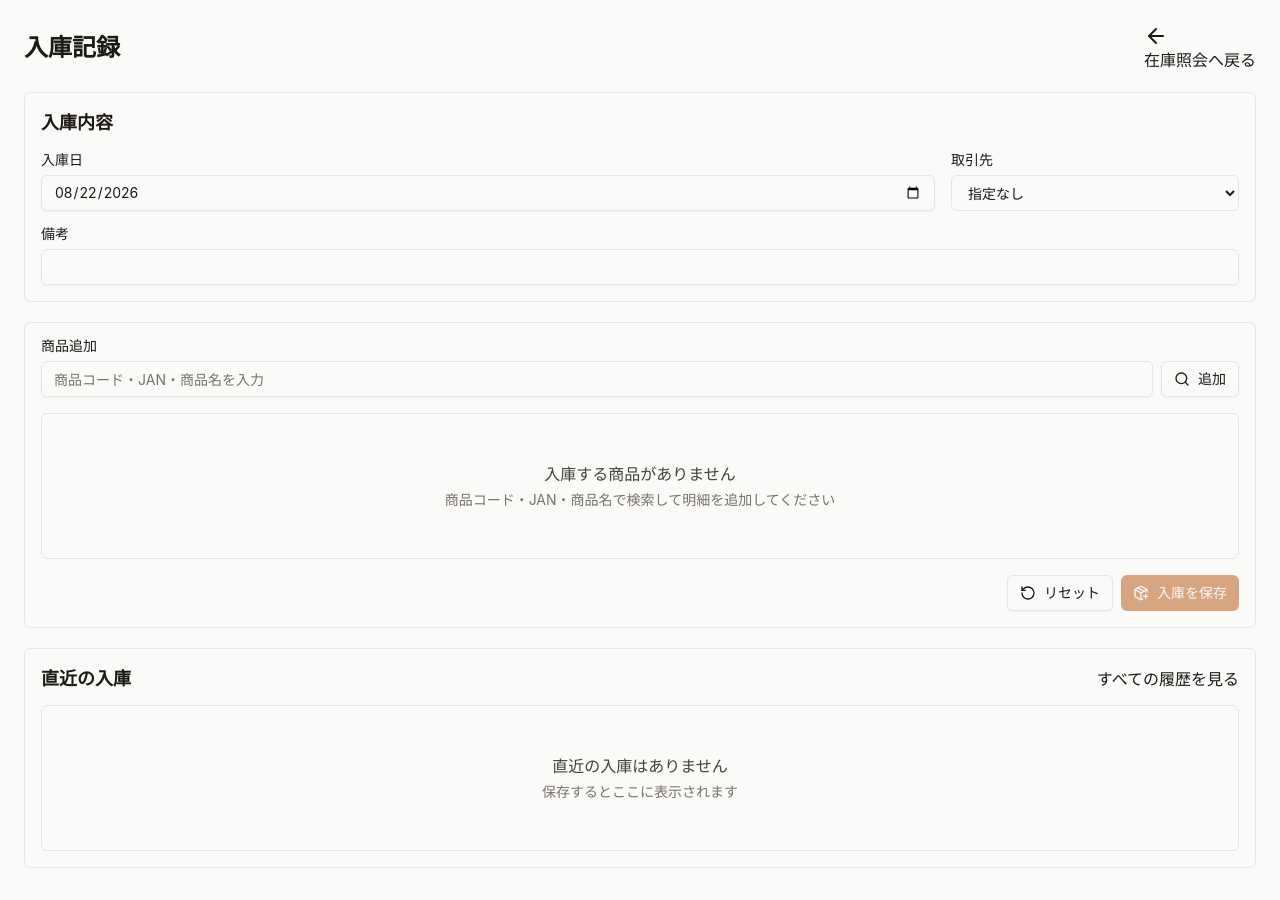
Test: ReceivingPage (UI-02 / REQ-201) › requires selection when product search returns multiple candidates
Type "P" into the dropdown named "入庫商品検索". click: (597, 379)
box: x1=41 y1=361 x2=1153 y2=397
Then press Enter
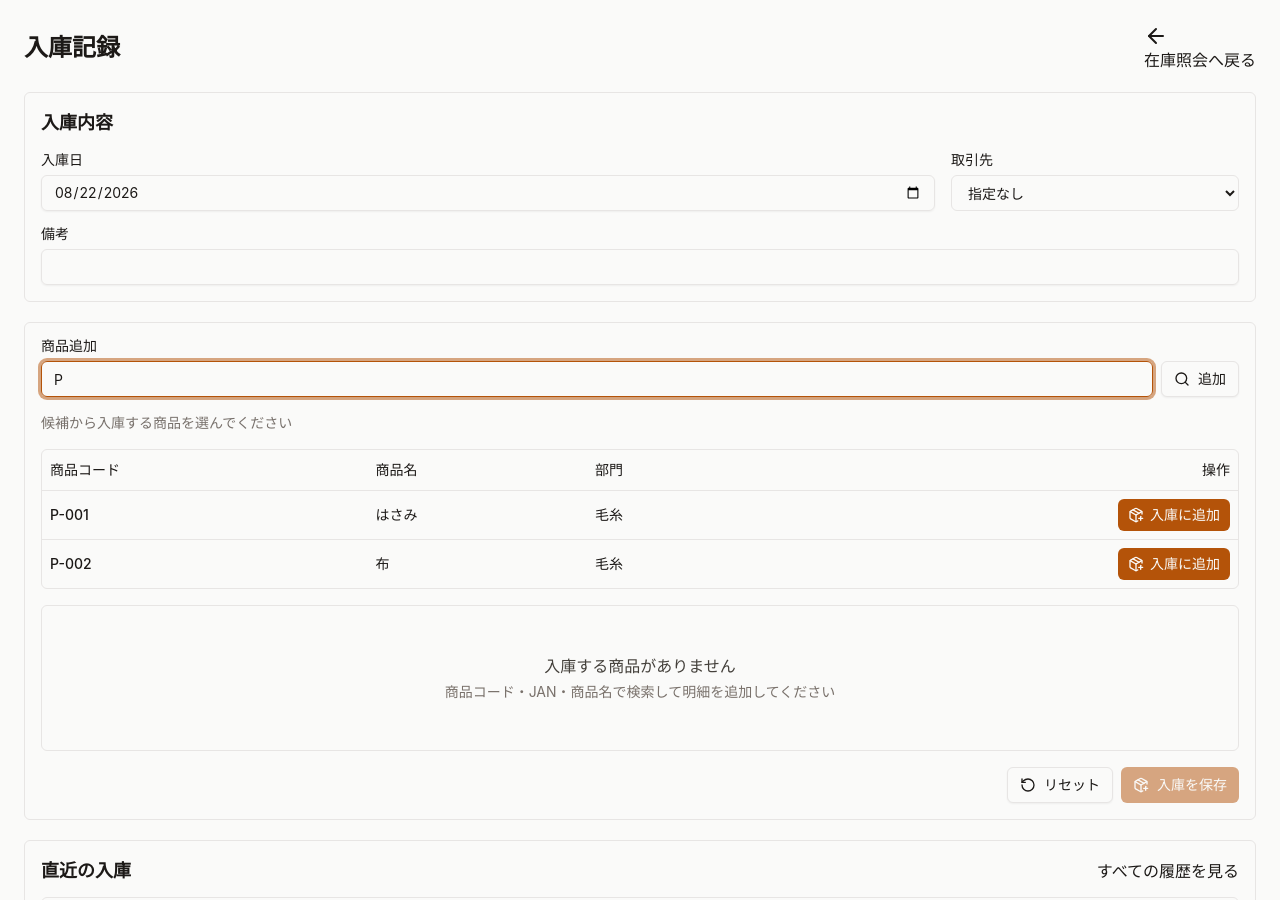
Result: the text "候補から入庫する商品を選んでください" is shown at x1=41 y1=413 x2=292 y2=433
Click the button "入庫に追加" in the row of "P-002". click: (1174, 564)
box: x1=1118 y1=548 x2=1230 y2=580
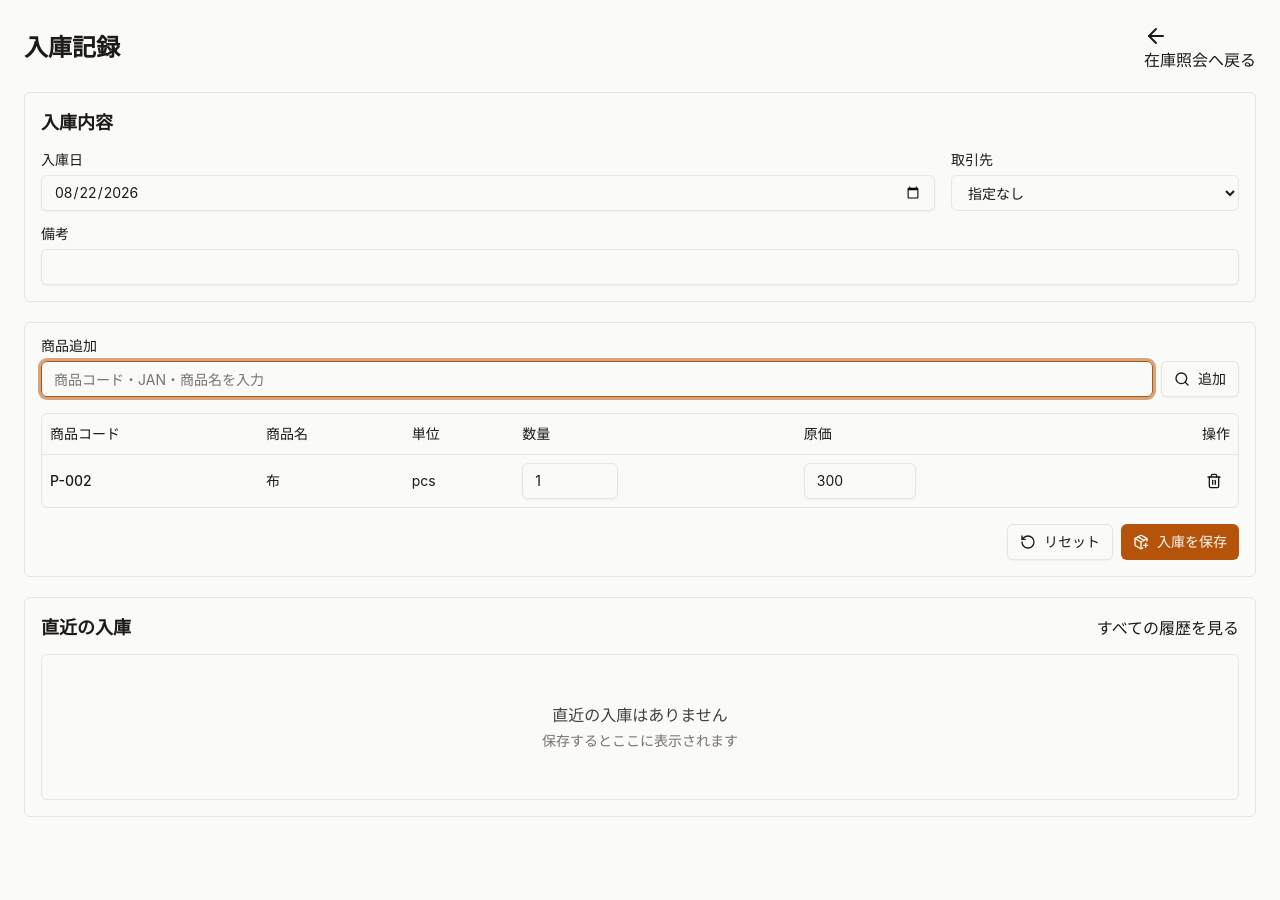
Result: the number field named "P-002 の数量" is shown at x1=522 y1=462 x2=618 y2=498
